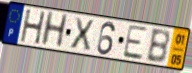6: (96, 20, 117, 56)
B: (145, 29, 171, 65)
E: (121, 23, 149, 61)
H: (39, 10, 70, 48), (19, 8, 47, 46)
X: (69, 16, 96, 52)
